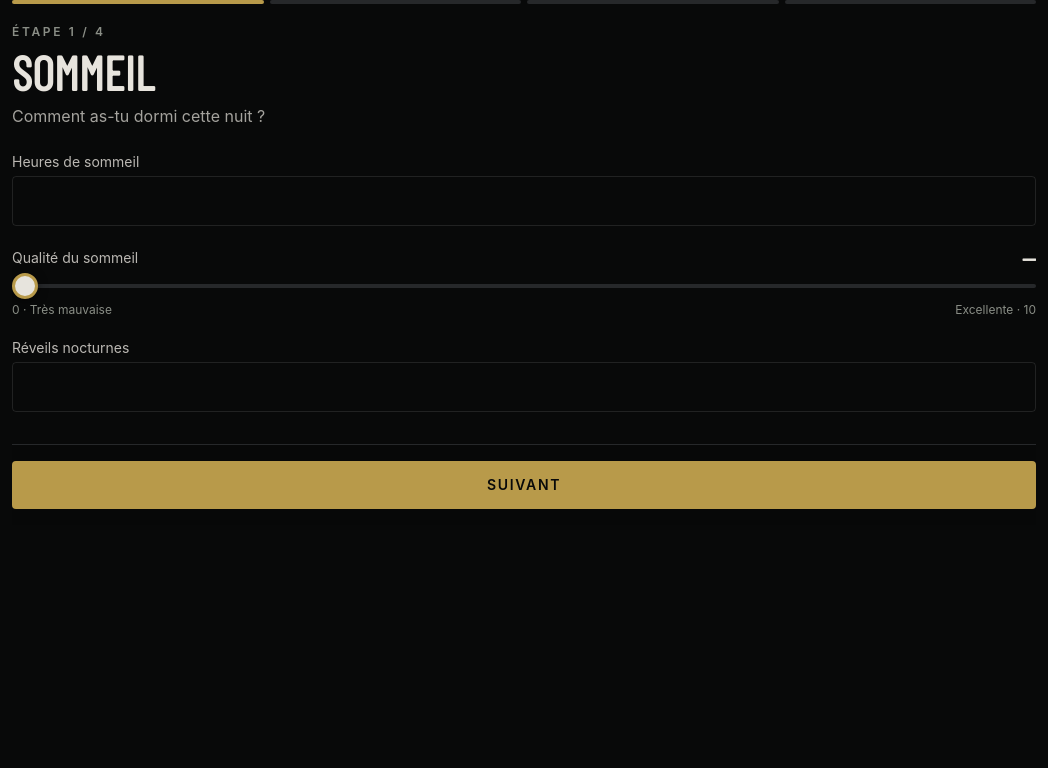
Test: CheckinForm — guided mode (UX-03) › 'Suivant' is blocked by the existing validation of the current step's own fields, never by later steps
The width and height of the screenshot is (1048, 768).
Click the button "Suivant". click: click(524, 485)
box: [12,461,1036,509]
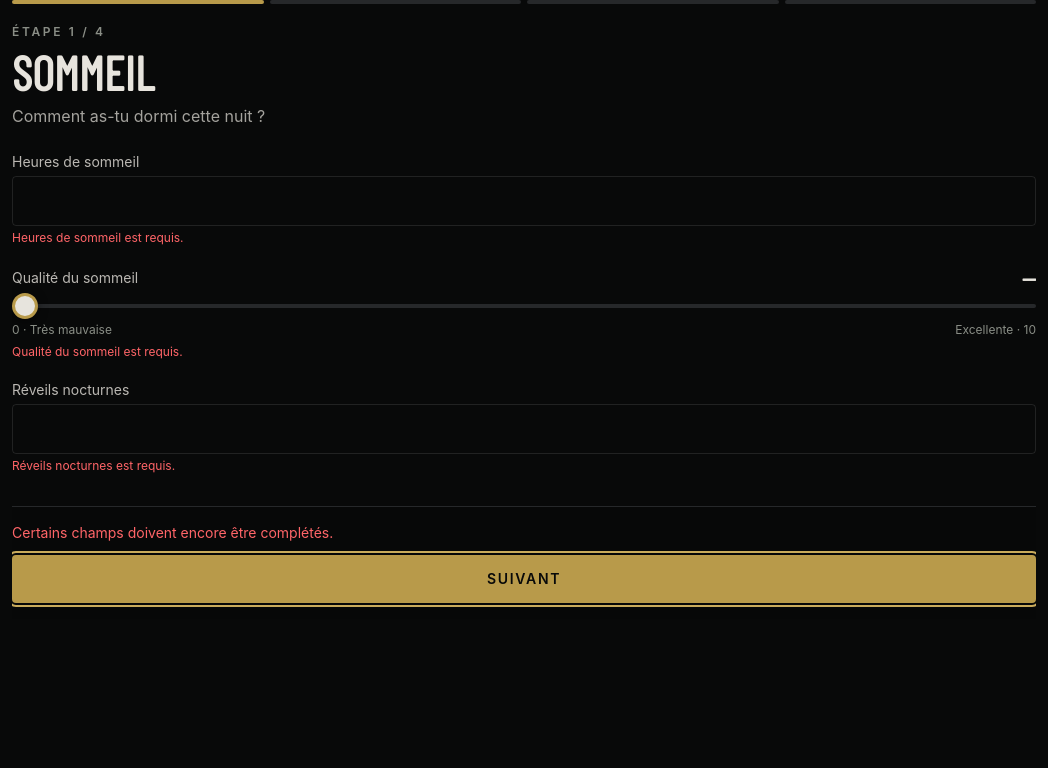
Check: the text "Étape 1 / 4" is shown, box [12,24,106,39]
Check: the text "Heures de sommeil est requis." is shown, box [12,230,184,245]
